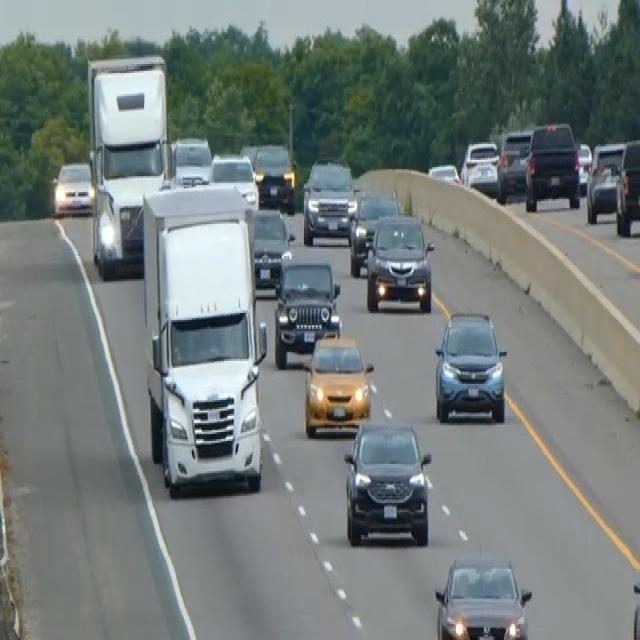car: (342, 416, 432, 548), (433, 550, 532, 638), (433, 308, 508, 423), (272, 249, 341, 368), (302, 331, 374, 437), (365, 211, 434, 313), (524, 119, 581, 212), (301, 155, 356, 245), (347, 188, 399, 276), (251, 204, 294, 288), (585, 140, 624, 224), (208, 149, 259, 210), (253, 140, 296, 212), (496, 126, 532, 201), (615, 137, 639, 235), (460, 137, 500, 195), (170, 133, 212, 185), (53, 160, 92, 215), (427, 160, 461, 185)
lorry: (139, 180, 268, 494)
